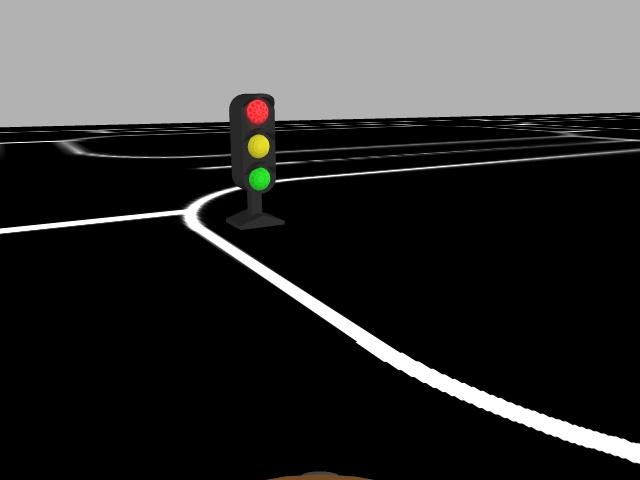red_light: (226, 92, 277, 195)
